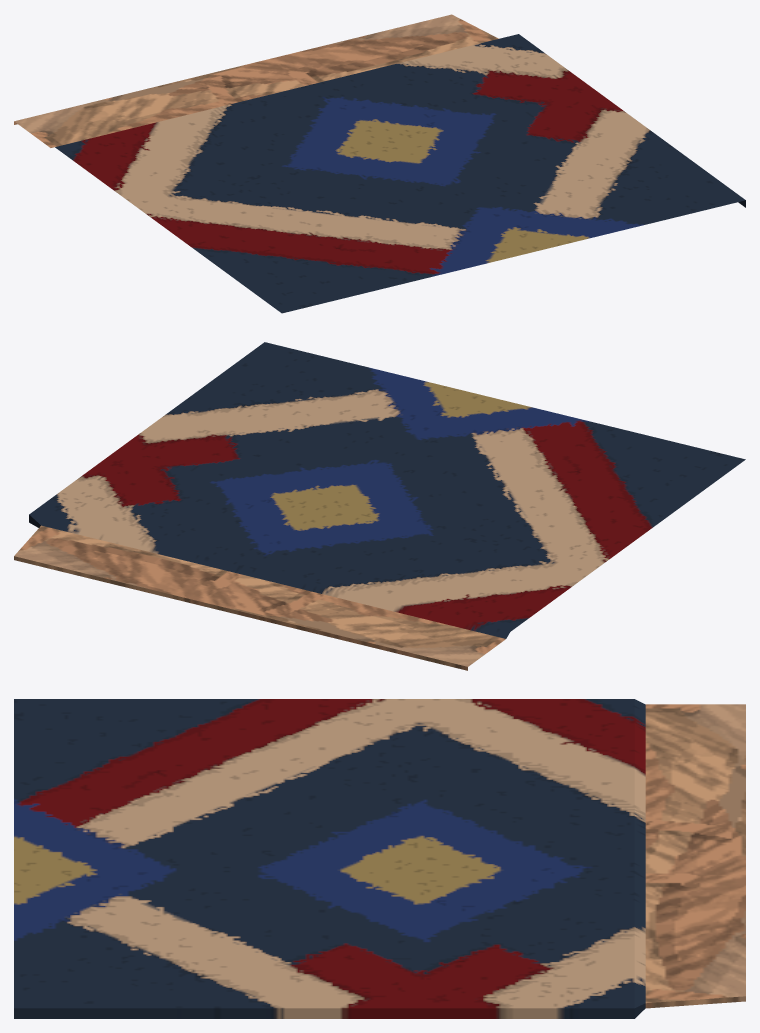
Rendered from STFcarpet_corner_fr.glb.
The picture shows the model from 3 angles, top to bottom: view 1: azimuth 30°, elevation 25°; view 2: azimuth 150°, elevation 25°; view 3: azimuth 270°, elevation 25°; orthographic projection. The views are drawn at different scales.
Visible parts, largest first — view 1: STFcarpet_corner_fr; view 2: STFcarpet_corner_fr; view 3: STFcarpet_corner_fr.
Part boxes in pixels (x1,y1,x2,y2): STFcarpet_corner_fr: [14, 14, 745, 313]; STFcarpet_corner_fr: [14, 342, 745, 670]; STFcarpet_corner_fr: [14, 699, 745, 1018].
Size of the model in its own units: 0.9 by 0.0144 by 0.9.
Materials: 2 (2 with a texture image).
